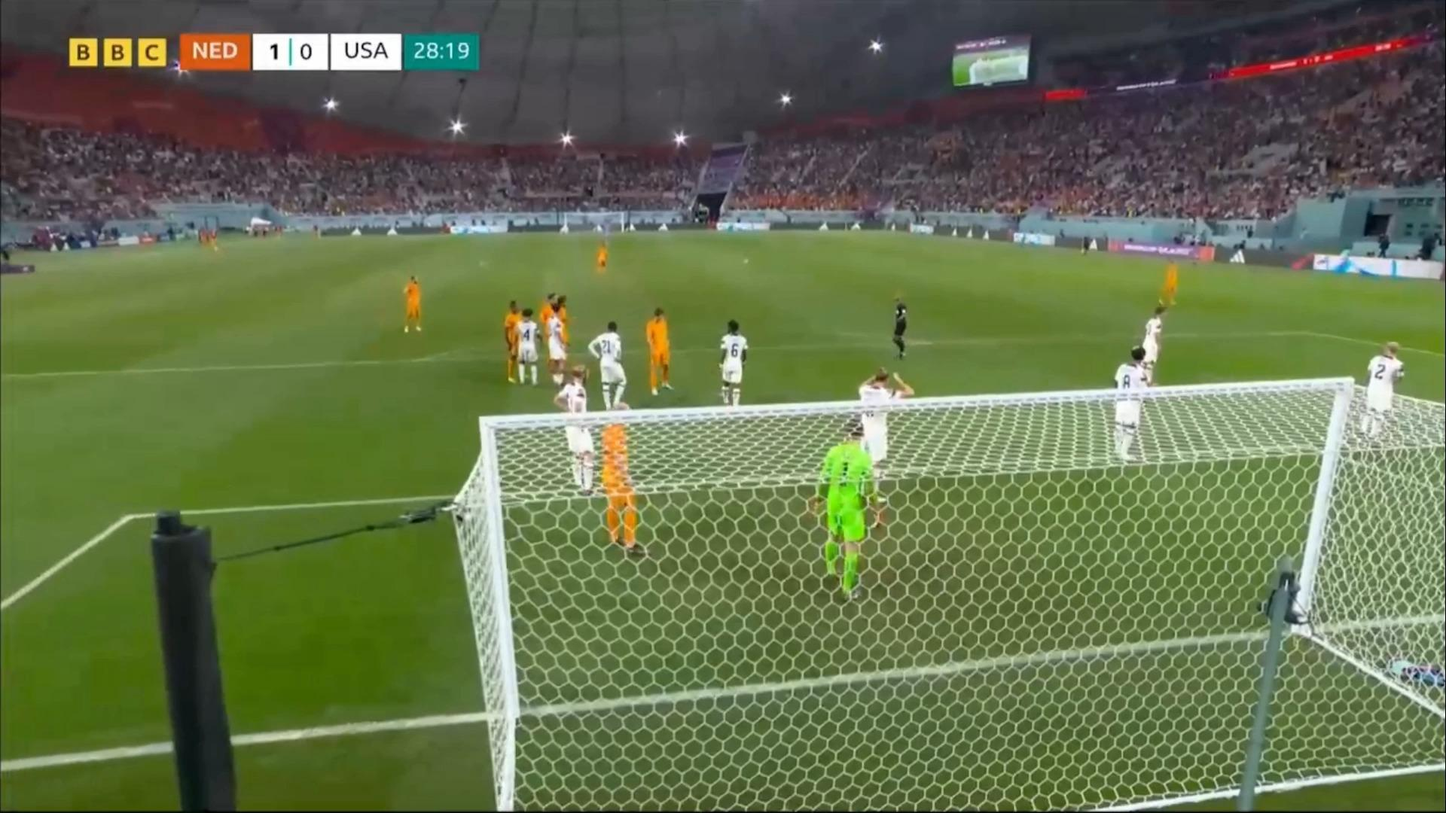Player: (815, 418, 878, 601), (592, 408, 650, 559), (554, 364, 611, 497), (1101, 346, 1157, 465), (1355, 338, 1409, 439), (856, 372, 903, 477), (632, 309, 681, 401), (706, 315, 752, 409), (589, 321, 635, 406), (512, 309, 545, 387), (1136, 308, 1170, 379), (544, 307, 573, 387), (399, 274, 430, 337), (1153, 257, 1187, 313), (503, 298, 522, 380), (551, 293, 571, 366), (539, 294, 558, 361), (594, 240, 615, 279)
Ref: (887, 294, 912, 363), (1082, 238, 1094, 257)
